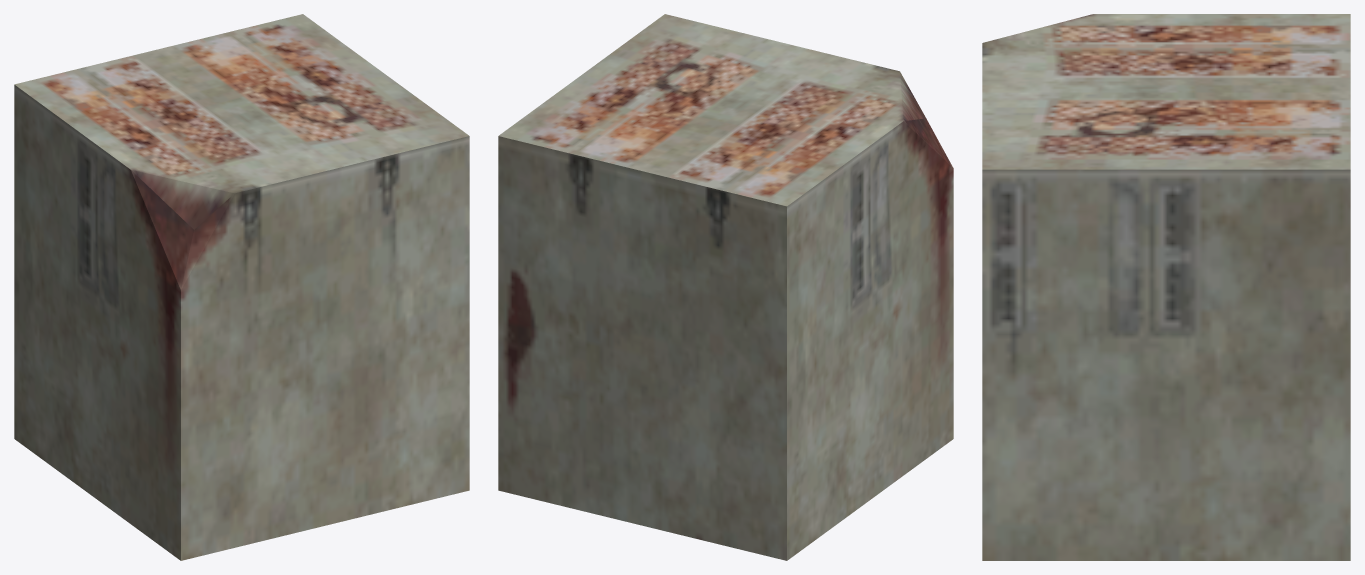
Rendered from thm_tato_debris_s09_l2.fbx.
3 renders of one model, left to right at view 1: azimuth 30°, elevation 25°; view 2: azimuth 150°, elevation 25°; view 3: azimuth 270°, elevation 25°, orthographic. The views are drawn at different scales.
Visible parts, largest first — view 1: mesh_node; view 2: mesh_node; view 3: mesh_node.
Boxes of the visible parts, x1,y1,x2,y2 form: mesh_node: [14, 14, 469, 560]; mesh_node: [498, 14, 953, 560]; mesh_node: [982, 14, 1350, 560].
Size of the model in its own units: 0.9851 by 1.16 by 0.9851.
Materials: 1 (1 with a texture image).
